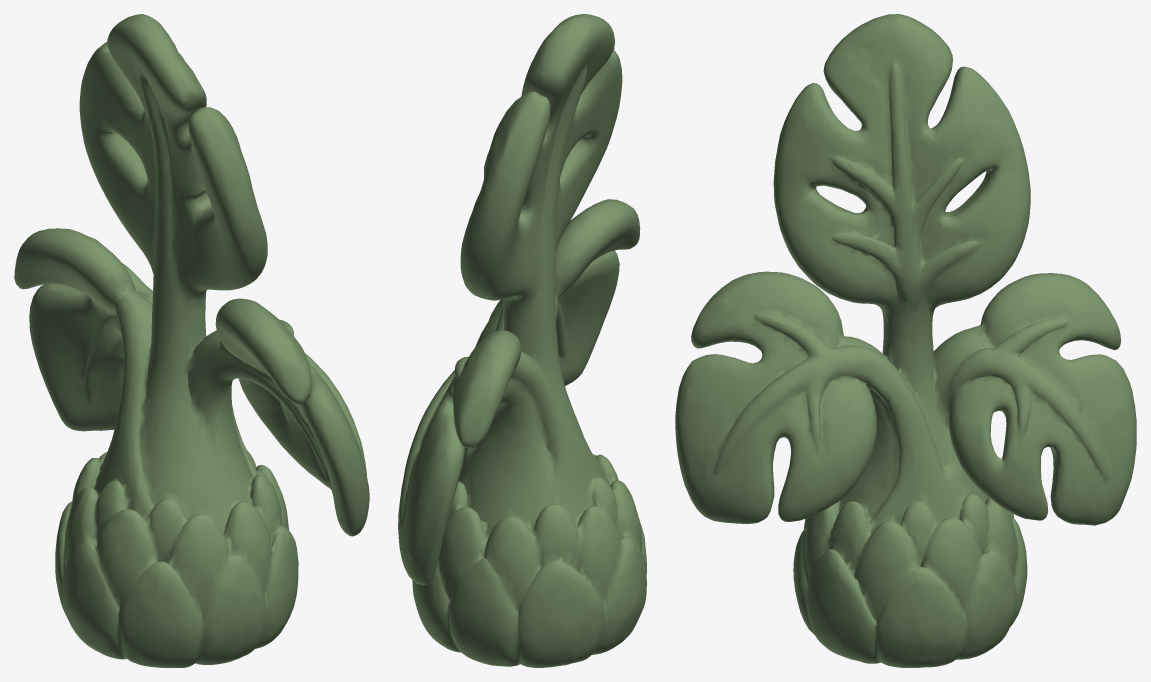
The model's file is monstera-cluster.glb.
3 views of the same model, side by side, from view 1: azimuth 30°, elevation 25°; view 2: azimuth 150°, elevation 25°; view 3: azimuth 270°, elevation 25° (orthographic). The views are drawn at different scales.
Parts seen in each view (by area): view 1: tripo_printable_source; view 2: tripo_printable_source; view 3: tripo_printable_source.
Boxes of the visible parts, x1,y1,x2,y2 form: tripo_printable_source: (14, 14, 369, 667); tripo_printable_source: (398, 14, 646, 667); tripo_printable_source: (675, 14, 1136, 667).
Size of the model in its own units: 35.41 by 100 by 70.
